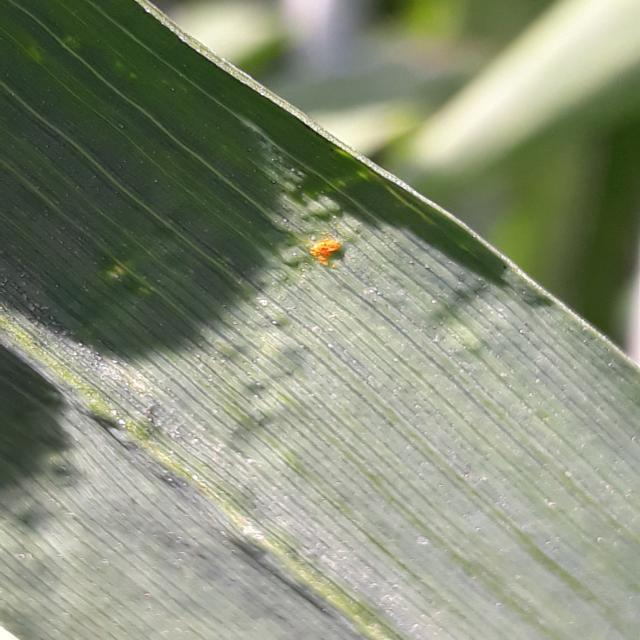orang_rust: (280, 211, 390, 319)
